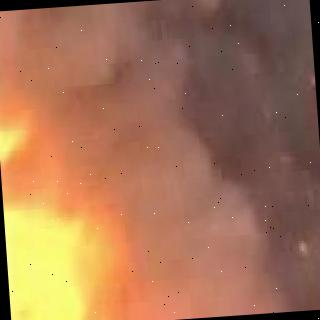fire: (0, 44, 143, 320)
